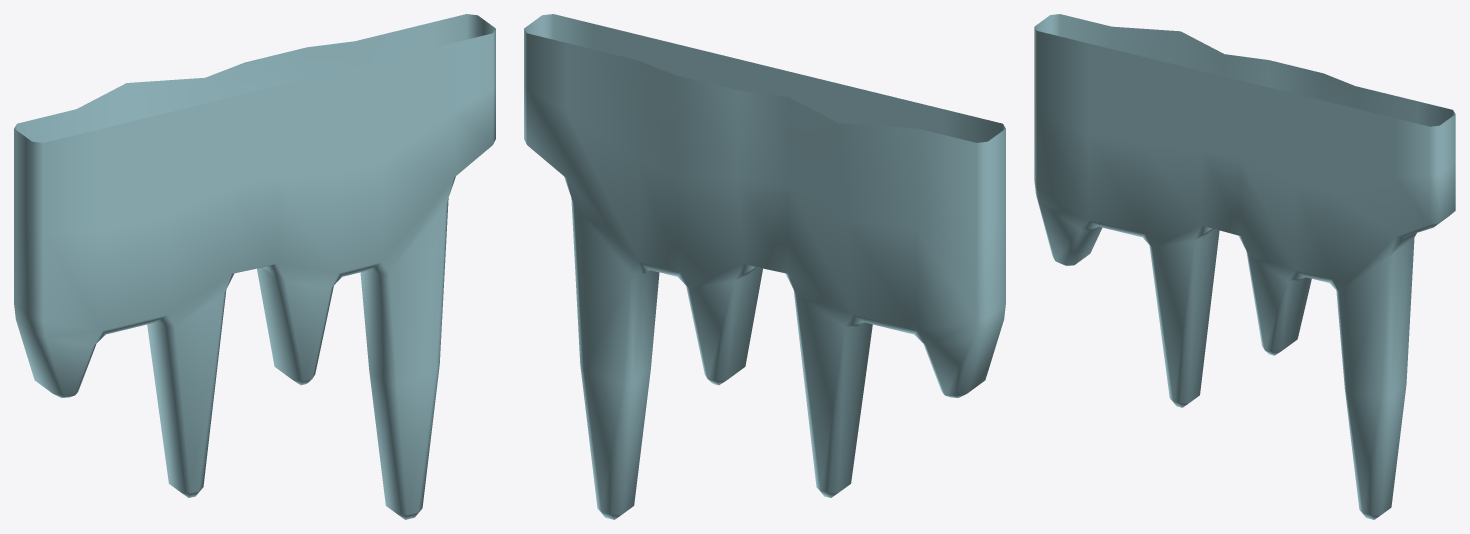
Rendered from Carambano_02.fbx.
3 views of the same model, side by side, from view 1: azimuth 30°, elevation 25°; view 2: azimuth 150°, elevation 25°; view 3: azimuth 330°, elevation 25° (orthographic). The views are drawn at different scales.
Parts seen in each view (by area): view 1: Carambano002; view 2: Carambano002; view 3: Carambano002.
Boxes of the visible parts, <box> form: Carambano002: <box>14,14,495,519</box>; Carambano002: <box>524,14,1005,519</box>; Carambano002: <box>1034,14,1455,519</box>.
Size of the model in its own units: 73.46 by 71.51 by 11.14.
